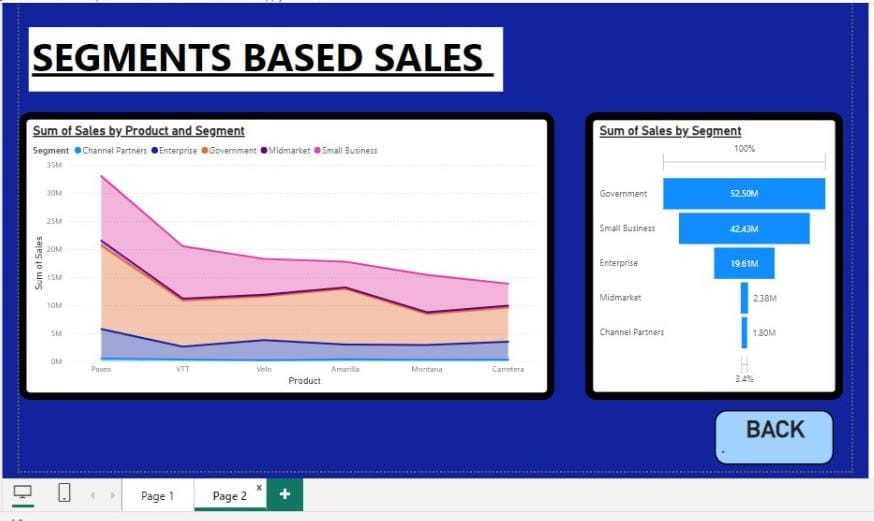

The dashboard page shown, as its layout file describes it:
{"tool":"powerbi","page":{"name":"Page 2","canvas":[1280,720],"ordinal":1},"visuals":[{"type":"stackedAreaChart","fields":{"Y":["Sum(financials. Sales)"],"Category":["financials.Product"],"Series":["financials.Segment"]},"box":[0,168.5,822.2,442.1],"z":0},{"type":"funnel","fields":{"Y":["Sum(financials. Sales)"],"Category":["financials.Segment"]},"box":[869.8,168.5,396,442.1],"z":1},{"type":"textbox","box":[14.4,37.4,728.6,99.4],"z":2},{"type":"actionButton","title":"BACK","box":[1068.5,626.4,182.9,83.5],"z":3}]}

Visuals, with their boxes on the page's 1280x720 design canvas (x1, y1, x2, y2). These are canvas units, not pixel positions in the 874x521 screenshot, which may show the page scaled, cropped or inside an application window:
stackedAreaChart - Sum(financials. Sales) x financials.Product: l=0, t=168, r=822, b=611
funnel - Sum(financials. Sales) x financials.Segment: l=870, t=168, r=1266, b=611
textbox: l=14, t=37, r=743, b=137
"BACK" actionButton: l=1068, t=626, r=1251, b=710
